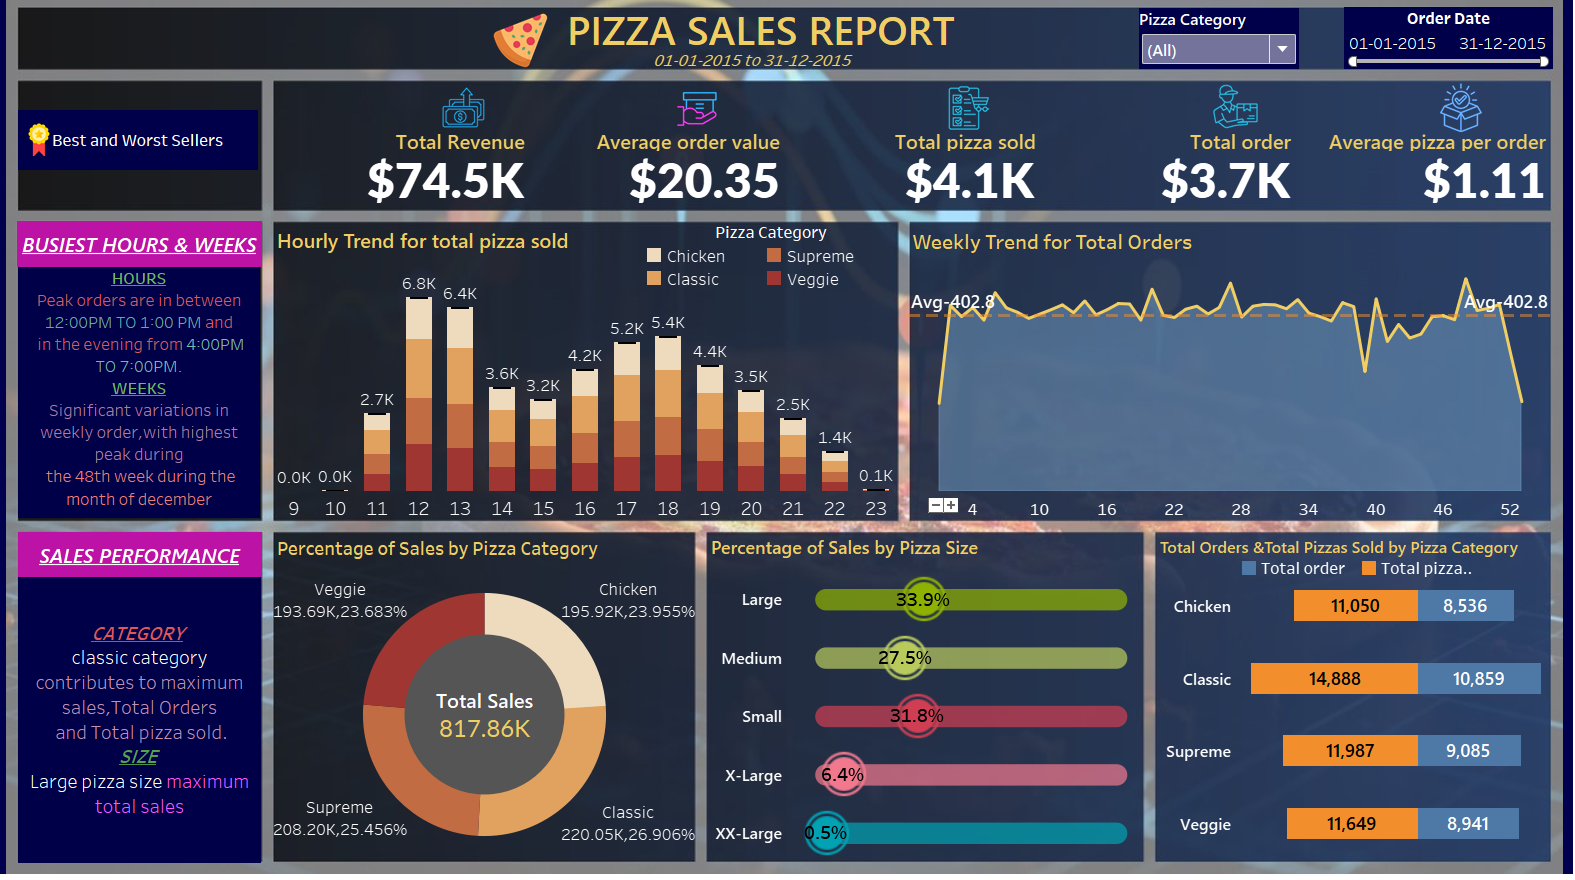

What the dashboard file says about the page in this screenshot:
{"tool":"tableau","page":{"name":"Home","canvas":[1600,900],"ordinal":1},"visuals":[{"type":"image","param":"C:/Users/Sabura/Downloads/project1/Pizza Tableau 1.jpg","box":[8,8,1584,884]},{"type":"filter","title":"Hourly Trend for total pizza sold","param":"[federated.0vjhbs30jro1yz1715hym1fwboia].[none:order_date:qk]","box":[1359,21,209,62]},{"type":"filter","title":"Weekly Trend for Total Orders","param":"[federated.0vjhbs30jro1yz1715hym1fwboia].[none:pizza_category:nk]","box":[1154,22,160,61]},{"type":"text","box":[578,23,396,39]},{"type":"image","param":"C:/Users/Sabura/Downloads/project1/Pizza Sales Images/pizza-slice.png","box":[501,26,69,56]},{"type":"worksheet","title":"DATE range","mark":"Automatic","box":[374,55,547,36]},{"type":"image","param":"C:/Users/Sabura/Downloads/project1/Pizza Sales Images/profit-growth.png","box":[425,97,107,48]},{"type":"image","param":"C:/Users/Sabura/Downloads/project1/Pizza Sales Images/delivery-man.png","box":[1217,97,67,46]},{"type":"image","param":"C:/Users/Sabura/Downloads/project1/Pizza Sales Images/order (1).png","box":[1444,97,64,49]},{"type":"image","param":"C:/Users/Sabura/Downloads/project1/Pizza Sales Images/order-delivery.png","box":[948,99,72,45]},{"type":"image","param":"C:/Users/Sabura/Downloads/project1/Pizza Sales Images/shipping-box.png","box":[663,100,97,45]},{"type":"dashboard-object","box":[33,124,240,60]},{"type":"image","param":"C:/Users/Sabura/Downloads/project1/Pizza Sales Images/choice.png","box":[37,134,33,40]},{"type":"worksheet","title":"Sheet 1","mark":"Automatic","box":[289,145,1276,80]},{"type":"text","box":[32,235,245,46]},{"type":"legend","title":"Hourly Trend for total pizza sold","param":"[federated.0vjhbs30jro1yz1715hym1fwboia].[none:pizza_category:nk]","box":[658,235,256,80]},{"type":"worksheet","title":"Hourly Trend for total pizza sold","mark":"Bar","rows":["Calculation_720857475616276483","Calculation_720857475616276483"],"cols":["order_time"],"box":[288,236,624,298]},{"type":"worksheet","title":"Weekly Trend for Total Orders","mark":"Area","rows":["Calculation_720857475616059394","Calculation_720857475616059394"],"cols":["order_date"],"box":[923,237,644,297]},{"type":"text","box":[33,281,242,251]},{"type":"worksheet","title":"Percentage of Sales by Pizza Category","mark":"Pie","rows":["Calculation_906912435545722881","Calculation_906912435545751555"],"box":[288,545,423,327]},{"type":"worksheet","title":"Percentage of Sales by Pizza Size","mark":"Line","rows":["pizza_size"],"box":[722,545,435,331]},{"type":"text","box":[33,546,244,45]},{"type":"worksheet","title":"Total Orders &Total Pizzas Sold by Pizza Category","mark":"Automatic","rows":["pizza_category"],"box":[1171,546,399,328]},{"type":"text","box":[33,591,243,286]}]}

Visuals, with their boxes in screenshot pixels (x1, y1, x2, y2), scaled from the page's 1600x900 canvas onto the 1575x880 screenshot:
image: l=8, t=8, r=1567, b=872
"Hourly Trend for total pizza sold" filter: l=1338, t=21, r=1544, b=81
"Weekly Trend for Total Orders" filter: l=1136, t=22, r=1293, b=81
text: l=569, t=22, r=959, b=61
image: l=493, t=25, r=561, b=80
"DATE range" worksheet: l=368, t=54, r=907, b=89
image: l=418, t=95, r=524, b=142
image: l=1198, t=95, r=1264, b=140
image: l=1421, t=95, r=1484, b=143
image: l=933, t=97, r=1004, b=141
image: l=653, t=98, r=748, b=142
dashboard-object: l=32, t=121, r=269, b=180
image: l=36, t=131, r=69, b=170
"Sheet 1" worksheet: l=284, t=142, r=1541, b=220
text: l=32, t=230, r=273, b=275
"Hourly Trend for total pizza sold" legend: l=648, t=230, r=900, b=308
"Hourly Trend for total pizza sold" worksheet (Bar marks): l=284, t=231, r=898, b=522
"Weekly Trend for Total Orders" worksheet (Area marks): l=909, t=232, r=1543, b=522
text: l=32, t=275, r=271, b=520
"Percentage of Sales by Pizza Category" worksheet (Pie marks): l=284, t=533, r=700, b=853
"Percentage of Sales by Pizza Size" worksheet (Line marks): l=711, t=533, r=1139, b=857
text: l=32, t=534, r=273, b=578
"Total Orders &Total Pizzas Sold by Pizza Category" worksheet: l=1153, t=534, r=1545, b=855
text: l=32, t=578, r=272, b=858
